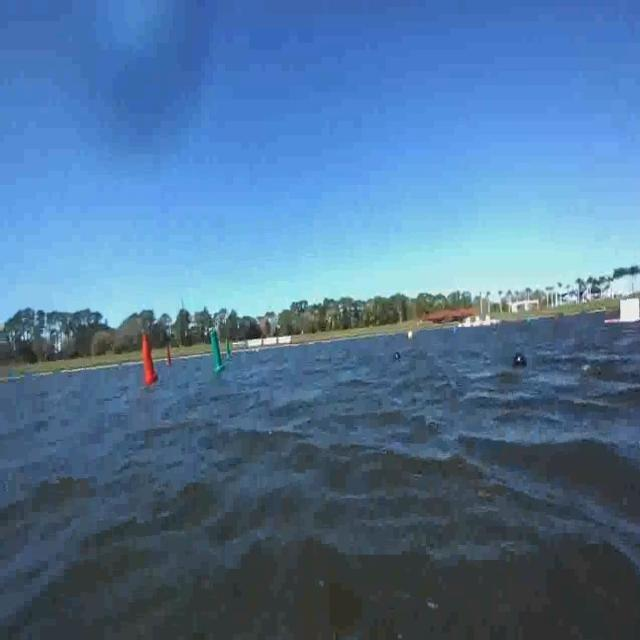black-buoy: (512, 351, 528, 372)
green-column-buoy: (208, 330, 226, 375), (225, 342, 231, 358)
red-column-buoy: (139, 334, 158, 384), (164, 343, 171, 367)
yellow-buoy: (408, 328, 415, 341)
